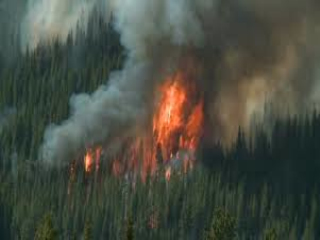fire: (159, 78, 207, 165), (78, 140, 153, 178)
smoke: (122, 2, 309, 132), (34, 57, 157, 148)
